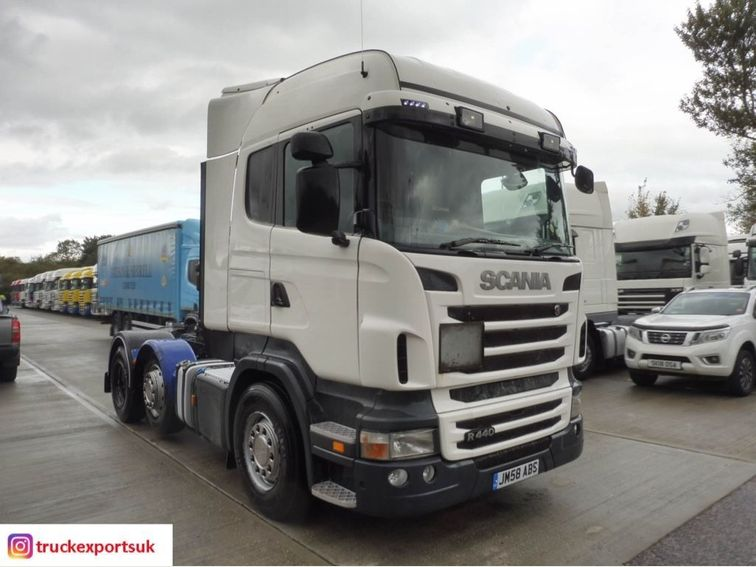Car: (621, 286, 755, 397)
Semi: (102, 48, 592, 519)
